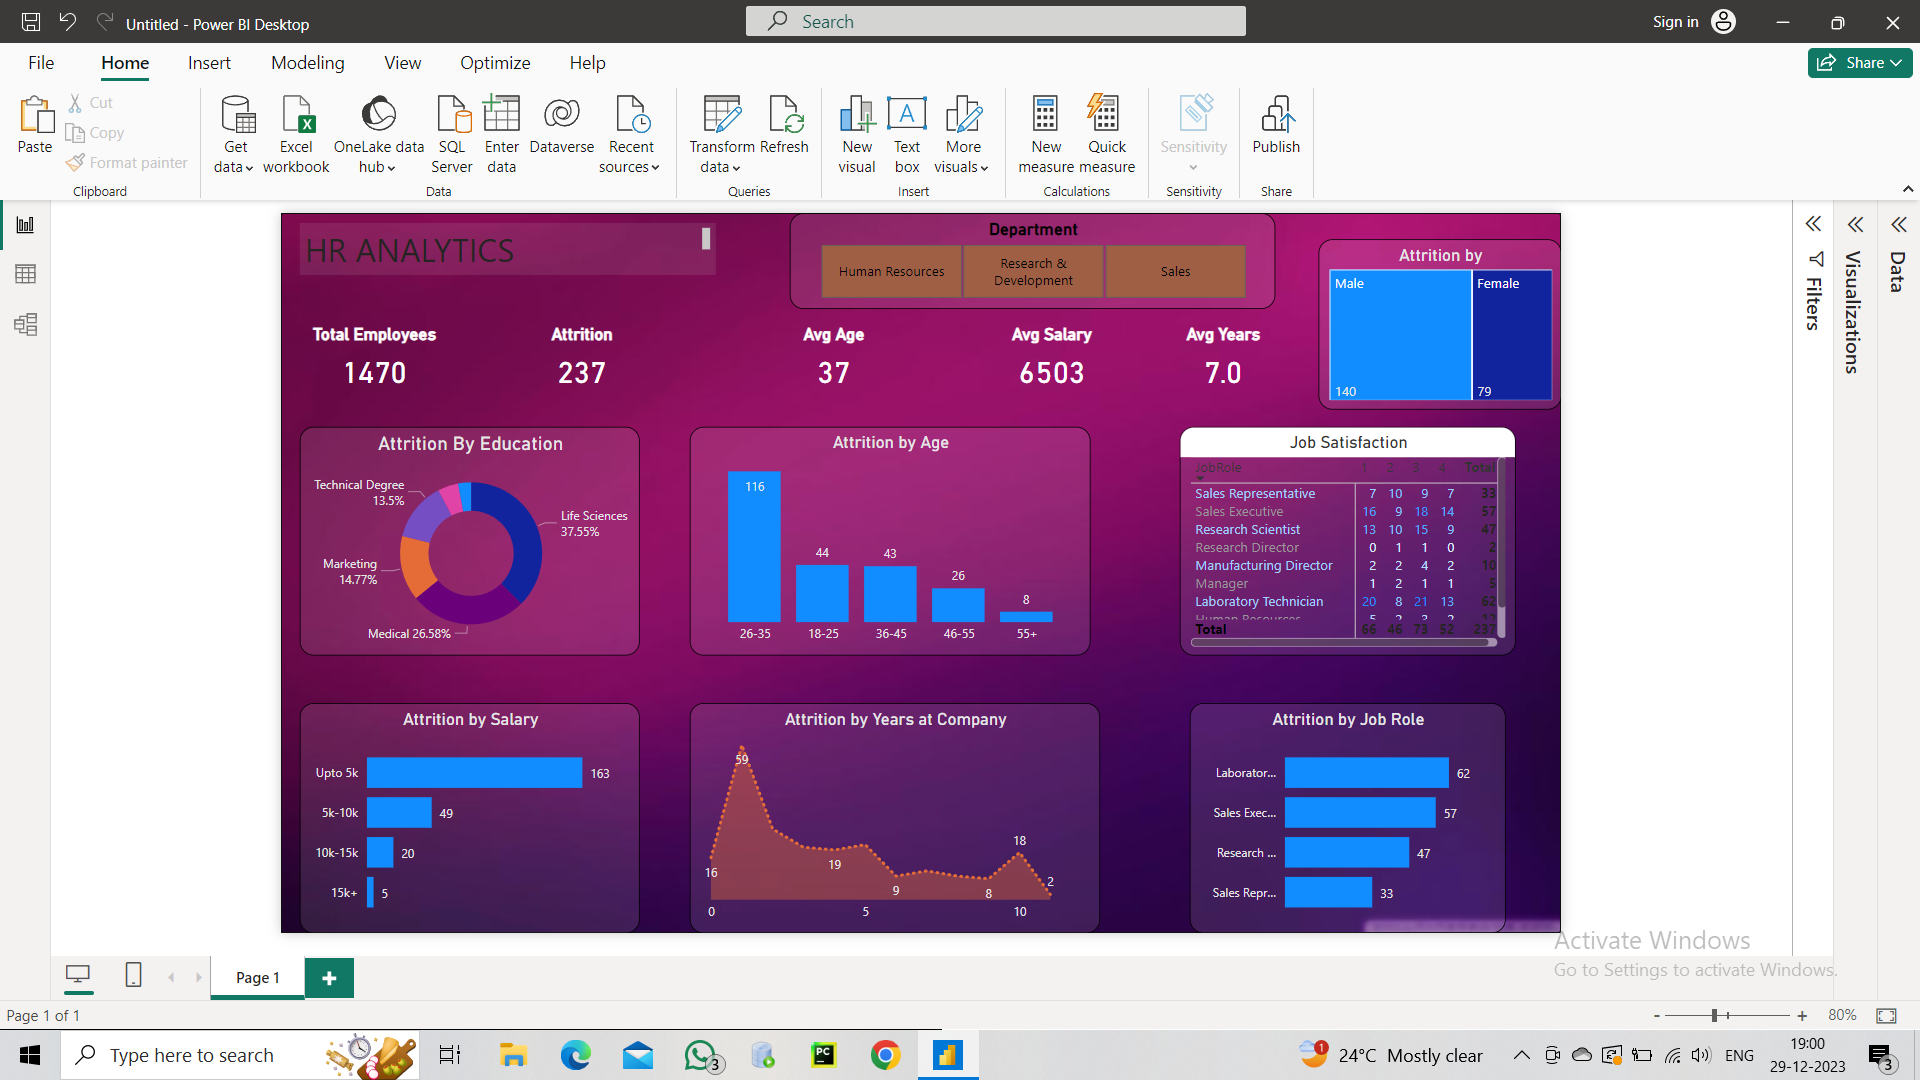

This screenshot's page, from the dashboard's own definition file:
{"tool":"powerbi","page":{"name":"Page 1","canvas":[1280,720],"ordinal":0},"visuals":[{"type":"card","title":"Total Employees","fields":{"Values":["Count(HR_Analytics.EmpID)"]},"box":[19.2,111.1,149.6,74.1],"z":0},{"type":"card","title":"Attrition","fields":{"Values":["Sum(HR_Analytics.Attrition Count)"]},"box":[226.4,111.1,149.6,74.1],"z":1000},{"type":"card","title":"Avg Age","fields":{"Values":["Avg(HR_Analytics.Age)"]},"box":[477.5,111.1,150.9,74.1],"z":2000},{"type":"card","title":"Avg Salary","fields":{"Values":["Avg(HR_Analytics.MonthlyIncome)"]},"box":[695.7,111.1,149.6,74.1],"z":3000},{"type":"card","title":"Avg Years","fields":{"Values":["Avg(HR_Analytics.YearsAtCompany)"]},"box":[867.2,111.1,149.6,74.1],"z":4000},{"type":"columnChart","title":"Attrition by Age","fields":{"Category":["HR_Analytics.AgeGroup"],"Y":["Sum(HR_Analytics.Attrition Count)"]},"box":[408.9,214.1,400.7,229.2],"z":5000},{"type":"pivotTable","title":"Job Satisfaction","fields":{"Rows":["HR_Analytics.JobRole"],"Columns":["HR_Analytics.JobSatisfaction"],"Values":["Sum(HR_Analytics.Attrition Count)"]},"box":[898.8,214.1,336.2,229.2],"z":6000},{"type":"donutChart","title":"Attrition By Education","fields":{"Category":["HR_Analytics.EducationField"],"Y":["Sum(HR_Analytics.Attrition Count)"]},"box":[19.2,214.1,340.3,229.2],"z":7000},{"type":"barChart","title":"Attrition by Salary","fields":{"Category":["HR_Analytics.SalarySlab"],"Y":["Sum(HR_Analytics.Attrition Count)"]},"box":[19.2,489.9,340.3,230.5],"z":8000},{"type":"barChart","title":"Attrition by Job Role","fields":{"Category":["HR_Analytics.JobRole"],"Y":["Sum(HR_Analytics.Attrition Count)"]},"box":[908.4,489.9,315.6,230.5],"z":9000},{"type":"areaChart","title":"Attrition by Years at Company ","fields":{"Y":["Sum(HR_Analytics.Attrition Count)"],"Category":["HR_Analytics.YearsAtCompany"]},"box":[408.9,489.9,410.3,230.5],"z":10000},{"type":"treemap","title":"Attrition by ","fields":{"Values":["Sum(HR_Analytics.Attrition Count)"],"Group":["HR_Analytics.Gender"]},"box":[1037.4,26.1,242.9,170.2],"z":11000},{"type":"slicer","title":"Department","fields":{"Values":["HR_Analytics.Department"]},"box":[509.1,0,485.8,96.1],"z":12000},{"type":"textbox","box":[19.2,9.6,415.8,52.1],"z":13000}]}

Visuals, with their boxes on the page's 1280x720 design canvas (x1, y1, x2, y2). These are canvas units, not pixel positions in the 1920x1080 screenshot, which may show the page scaled, cropped or inside an application window:
"Total Employees" card: bbox=[19, 111, 169, 185]
"Attrition" card: bbox=[226, 111, 376, 185]
"Avg Age" card: bbox=[478, 111, 628, 185]
"Avg Salary" card: bbox=[696, 111, 845, 185]
"Avg Years" card: bbox=[867, 111, 1017, 185]
"Attrition by Age" columnChart: bbox=[409, 214, 810, 443]
"Job Satisfaction" pivotTable: bbox=[899, 214, 1235, 443]
"Attrition By Education" donutChart: bbox=[19, 214, 360, 443]
"Attrition by Salary" barChart: bbox=[19, 490, 360, 720]
"Attrition by Job Role" barChart: bbox=[908, 490, 1224, 720]
"Attrition by Years at Company " areaChart: bbox=[409, 490, 819, 720]
"Attrition by " treemap: bbox=[1037, 26, 1280, 196]
"Department" slicer: bbox=[509, 0, 995, 96]
textbox: bbox=[19, 10, 435, 62]
